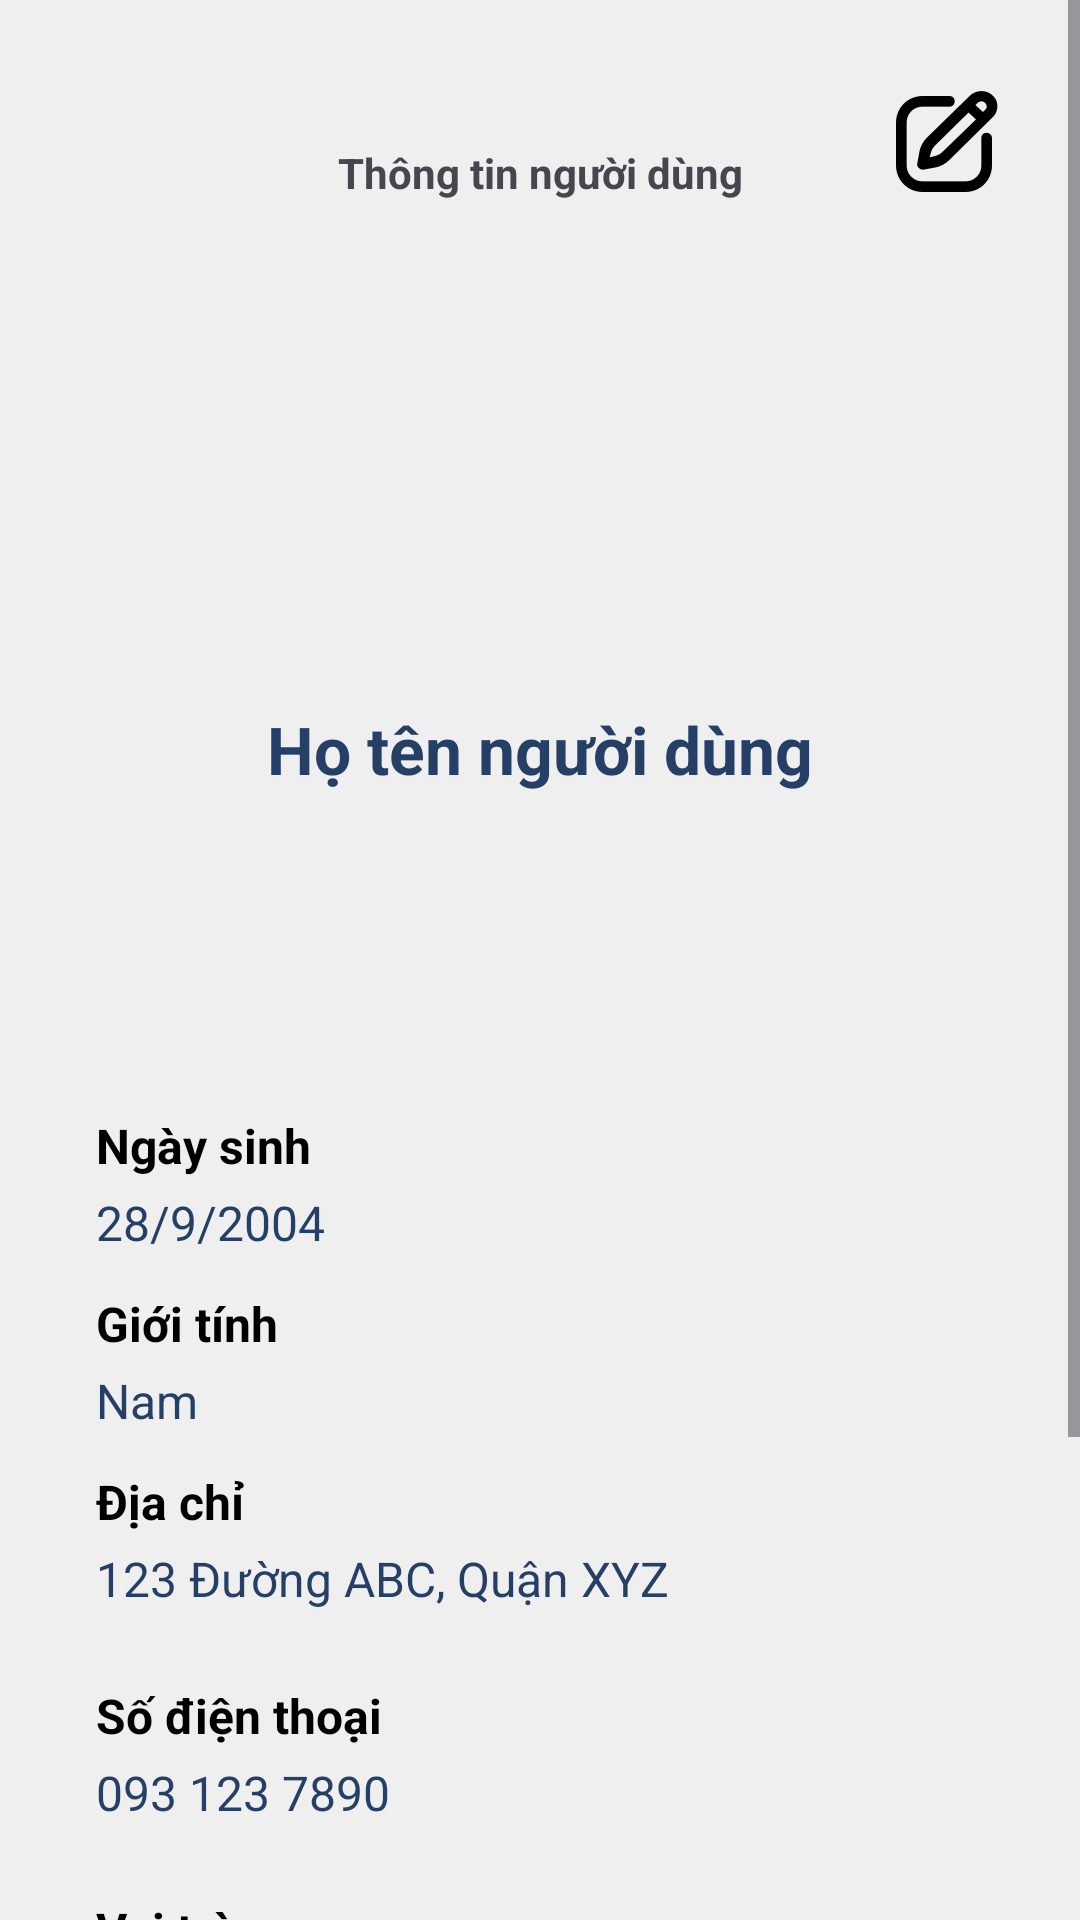

Icon click points for this 1080×1920 phone screenshot, format [x,y]:
note pencil: [947,141]
